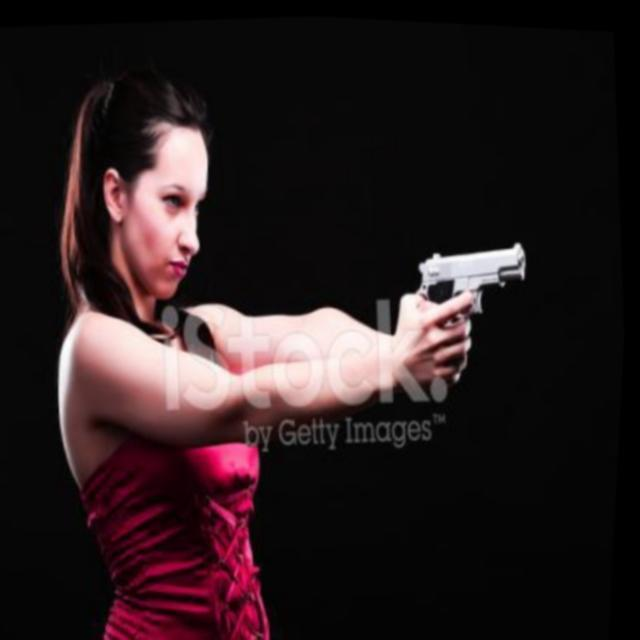weapon: (391, 228, 557, 382)
